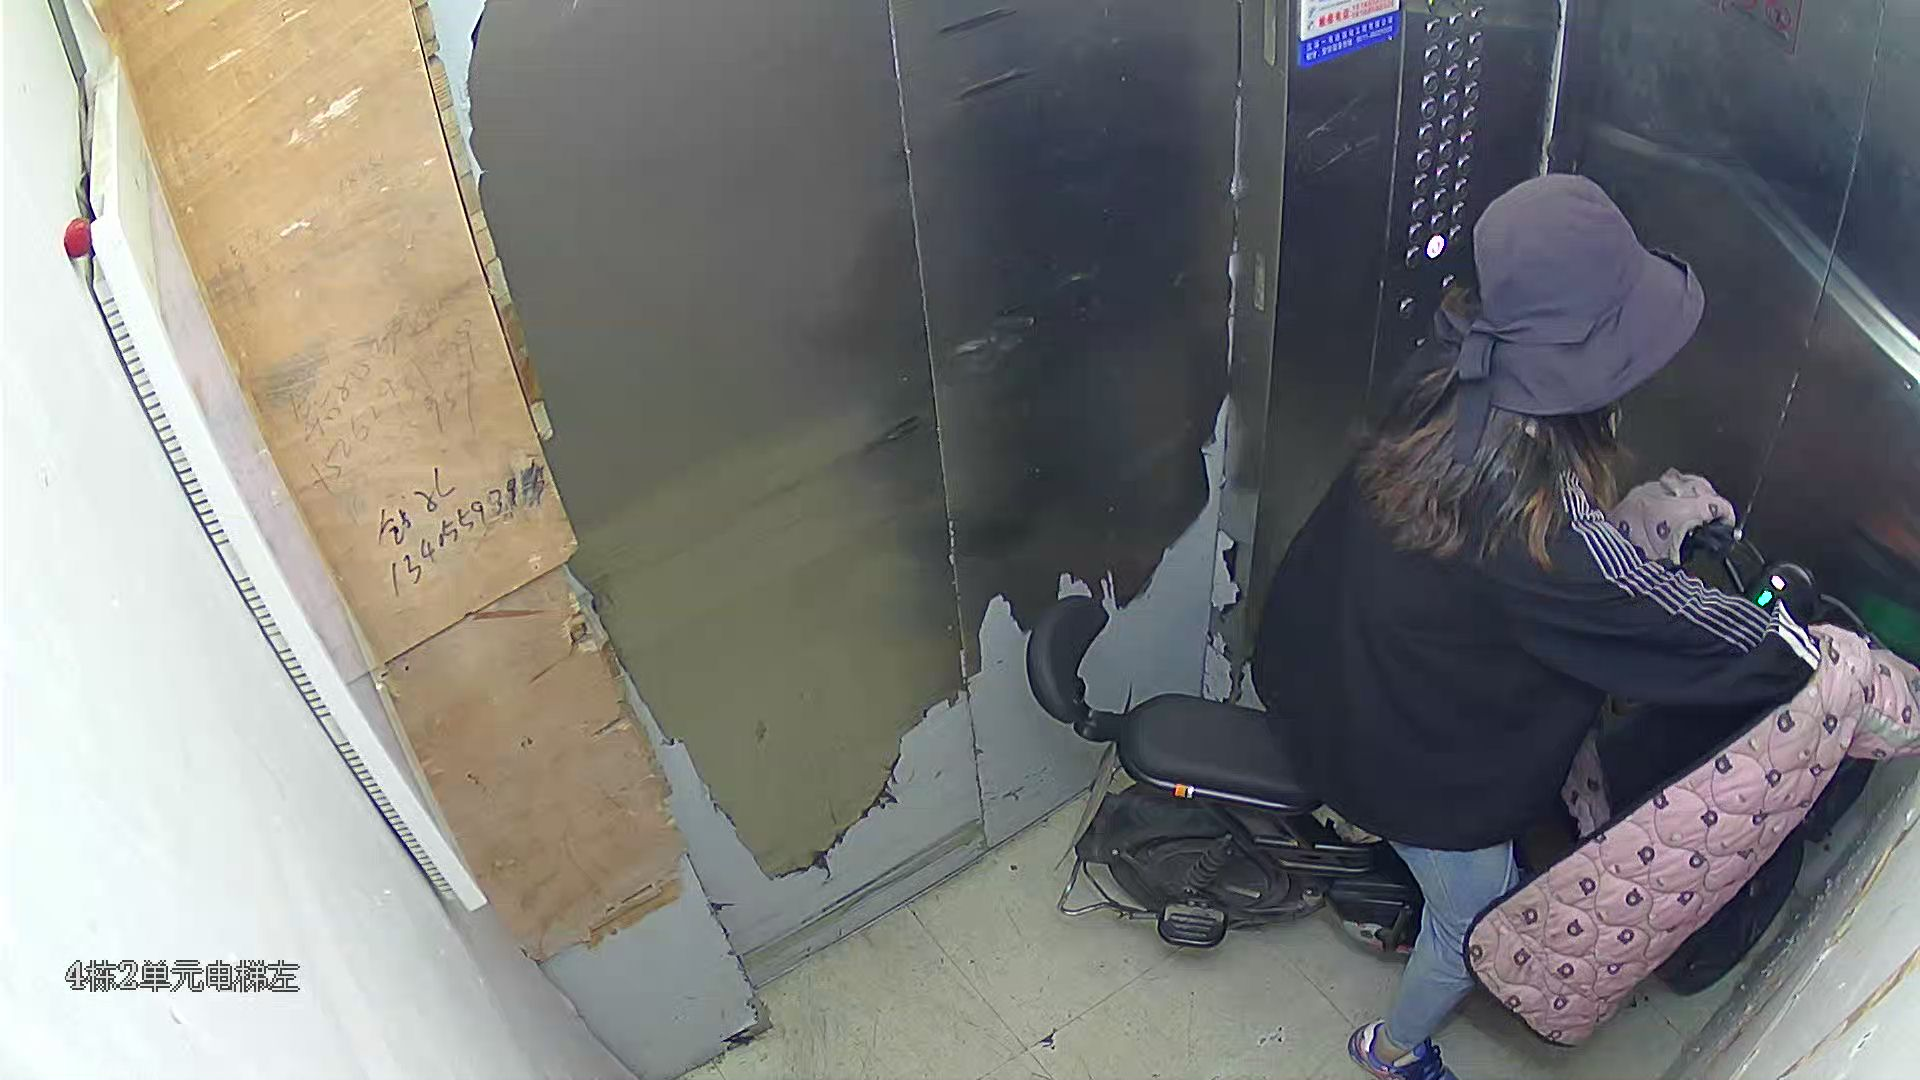Electric-bicycle: (1031, 472, 1900, 928)
